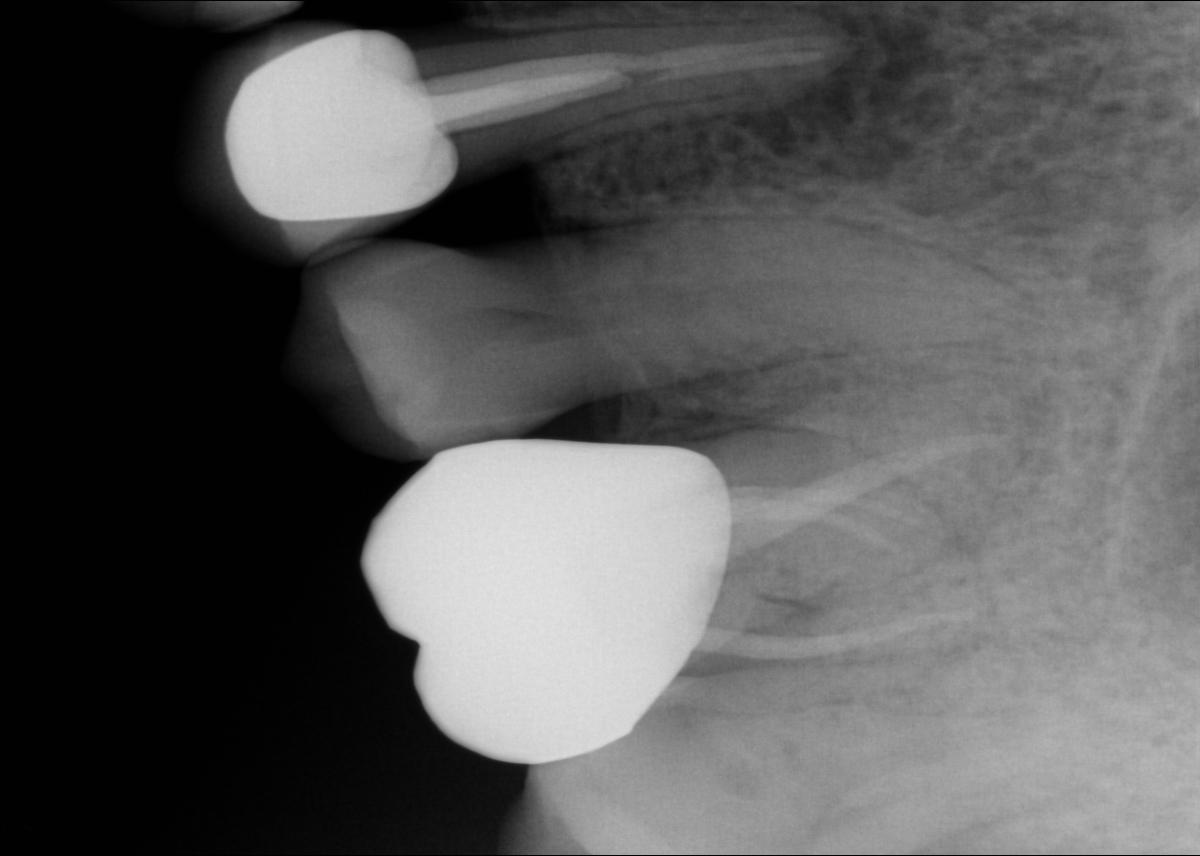Furcation Involvement: (727, 0, 957, 185)
